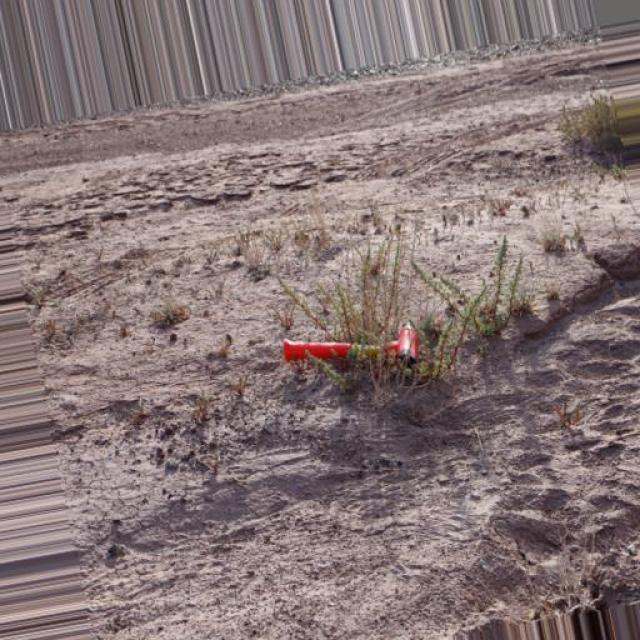mallet: (280, 320, 420, 368)
